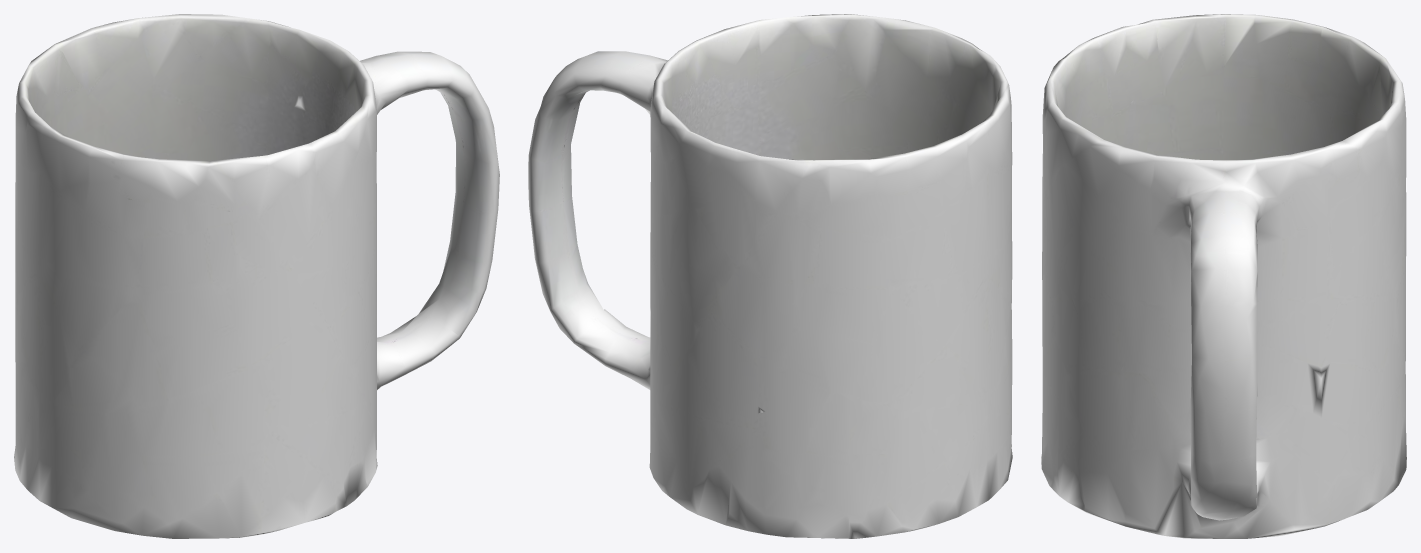
Rendered from coffee-mug.glb.
3 views of the same model, side by side, from view 1: azimuth 30°, elevation 25°; view 2: azimuth 150°, elevation 25°; view 3: azimuth 270°, elevation 25° (orthographic).
Size of the model in its own units: 0.1194 by 0.0949 by 0.0835.
1 material, 1 textured.
